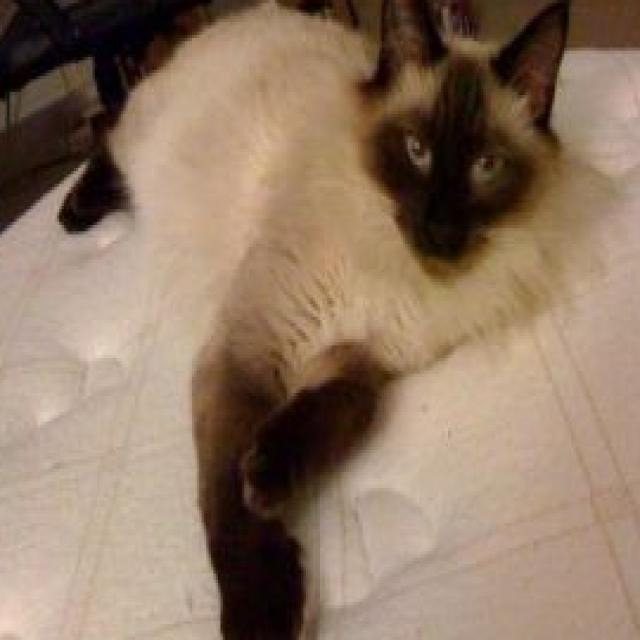Birman: (55, 0, 576, 640)
